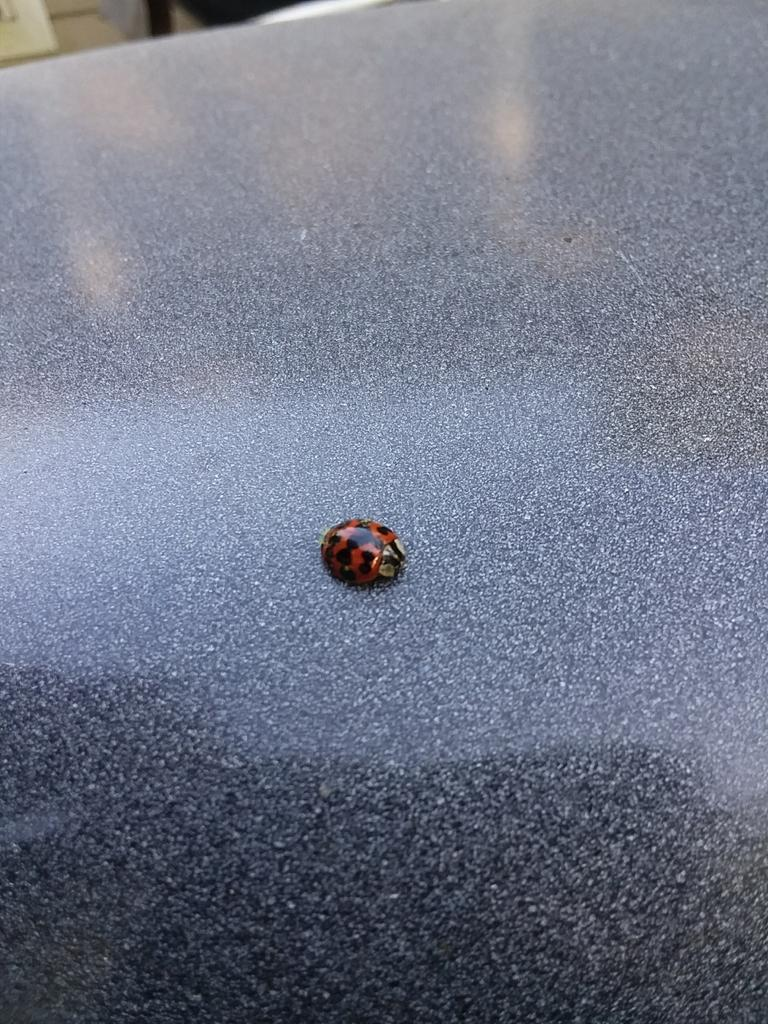ladybug: (316, 509, 416, 601)
